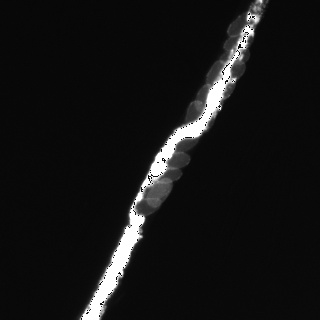embryo: (145, 178, 172, 208), (227, 11, 254, 37), (205, 58, 226, 84), (223, 34, 255, 51), (220, 48, 250, 66), (193, 84, 210, 114), (135, 197, 161, 216), (184, 100, 204, 123), (167, 152, 189, 168), (175, 137, 198, 151), (160, 168, 182, 181), (231, 60, 245, 77), (224, 83, 234, 99)
